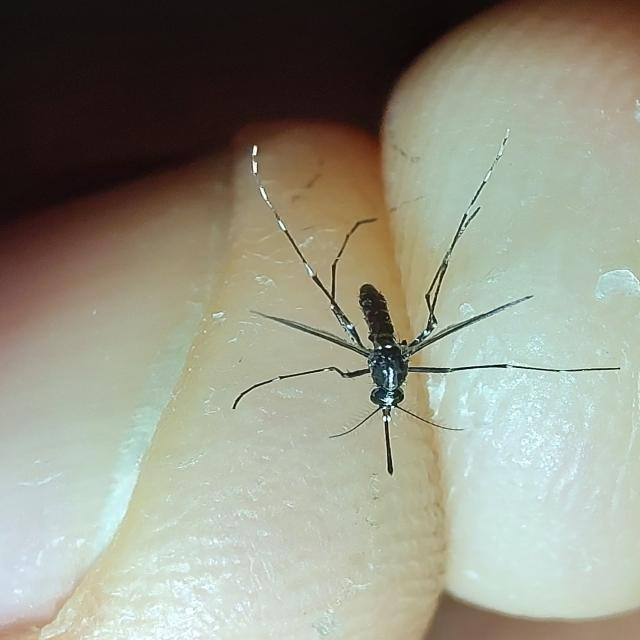albopictus: (205, 112, 600, 498)
